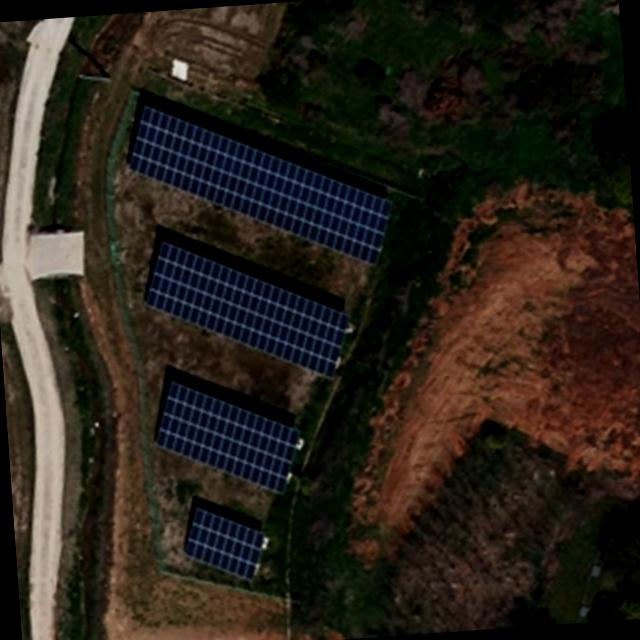solar: (122, 88, 400, 285), (138, 224, 356, 395), (148, 369, 305, 504), (180, 498, 274, 588)
